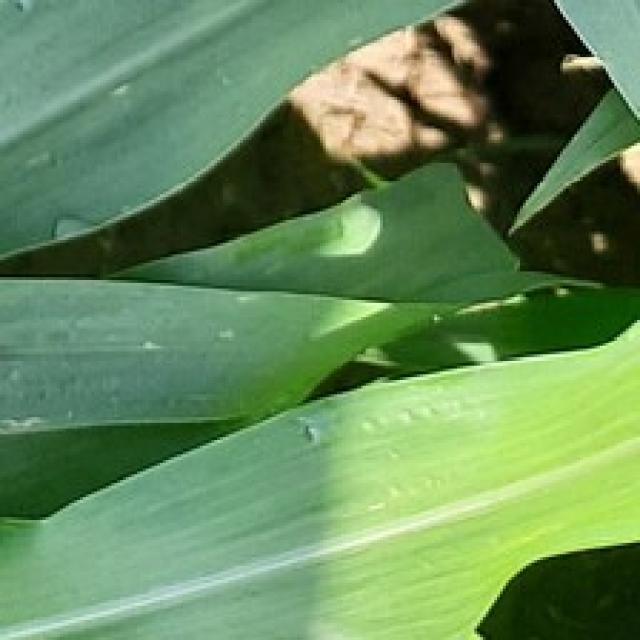Corn: (0, 0, 637, 637), (0, 0, 637, 286), (0, 269, 437, 520), (106, 157, 603, 303), (506, 0, 637, 237)
